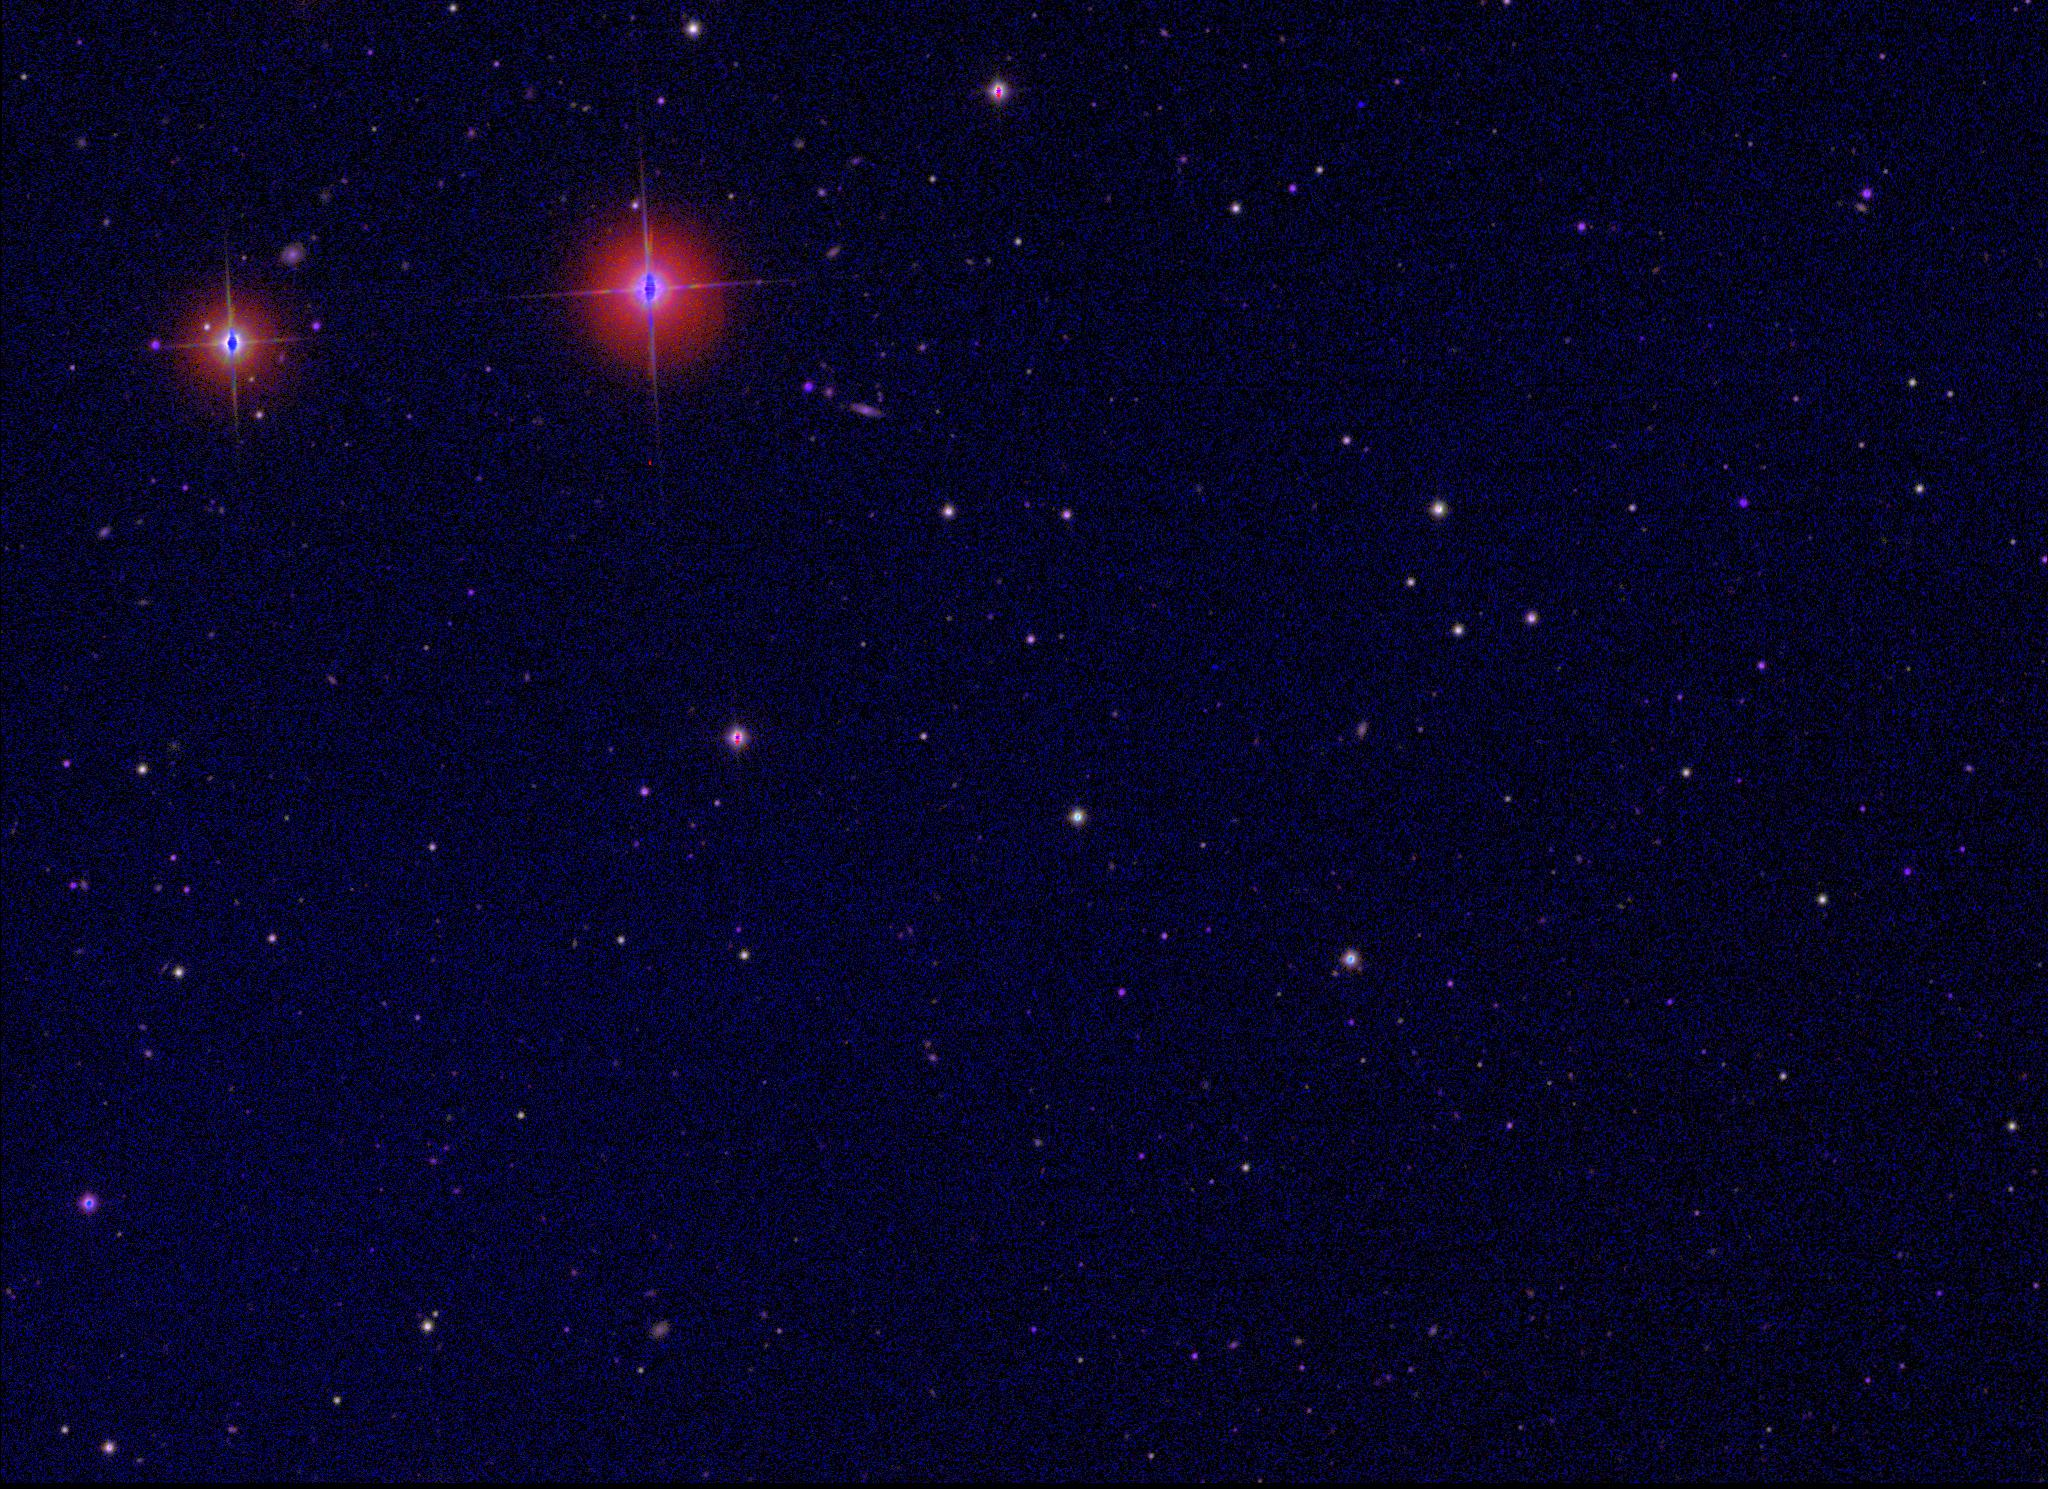L: (1355, 99, 1367, 111)
